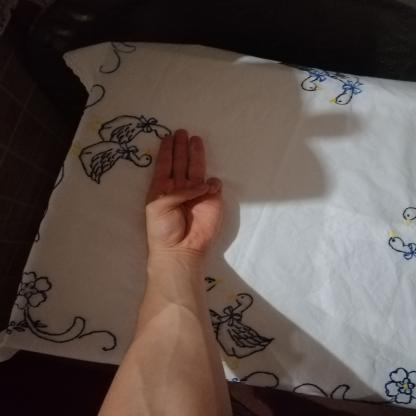THA: (126, 120, 232, 265)
